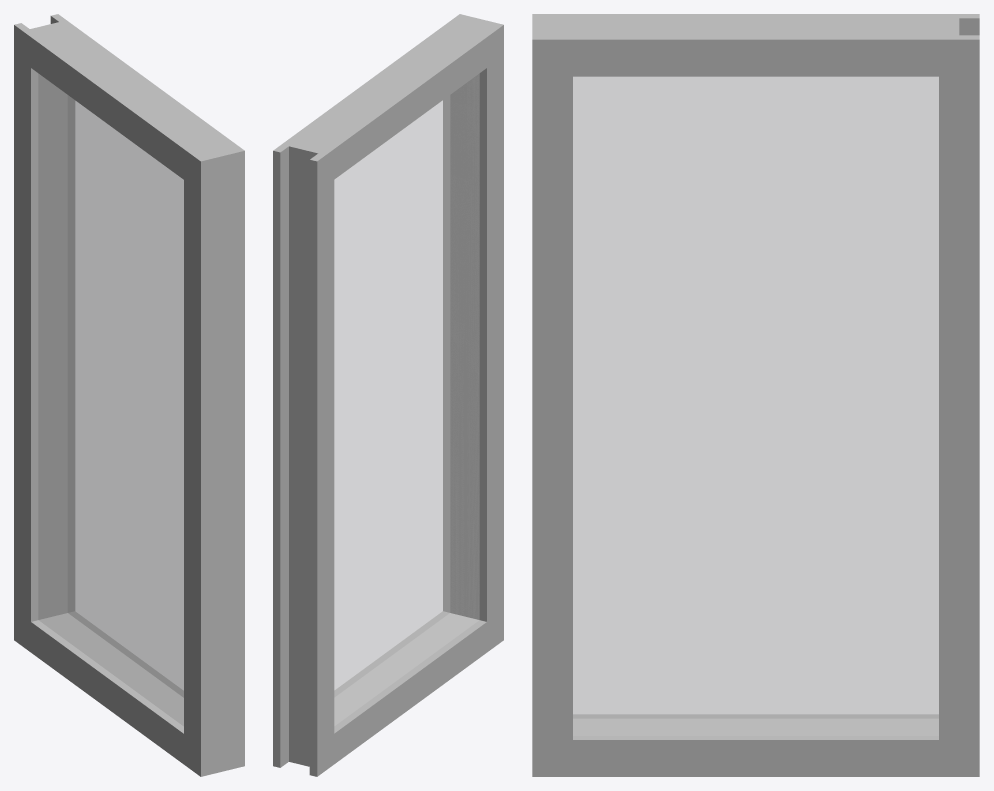
Rendered from Door-Type-3-Socket.obj.
The picture shows the model from 3 angles, left to right: view 1: azimuth 30°, elevation 25°; view 2: azimuth 150°, elevation 25°; view 3: azimuth 270°, elevation 25°; orthographic projection. The views are drawn at different scales.
Parts seen in each view (by area): view 1: Door-Type-3-Socket; view 2: Door-Type-3-Socket; view 3: Door-Type-3-Socket.
Part boxes in pixels (<box>): Door-Type-3-Socket: <box>14,14,244,776</box>; Door-Type-3-Socket: <box>273,14,503,776</box>; Door-Type-3-Socket: <box>532,14,979,776</box>.
Size of the model in its own units: 0.3002 by 4 by 2.2.
